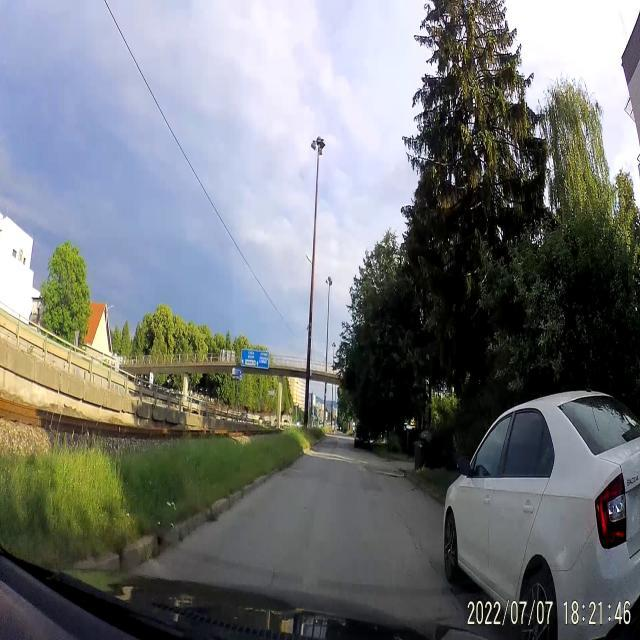Pothole: (378, 465, 402, 482)
